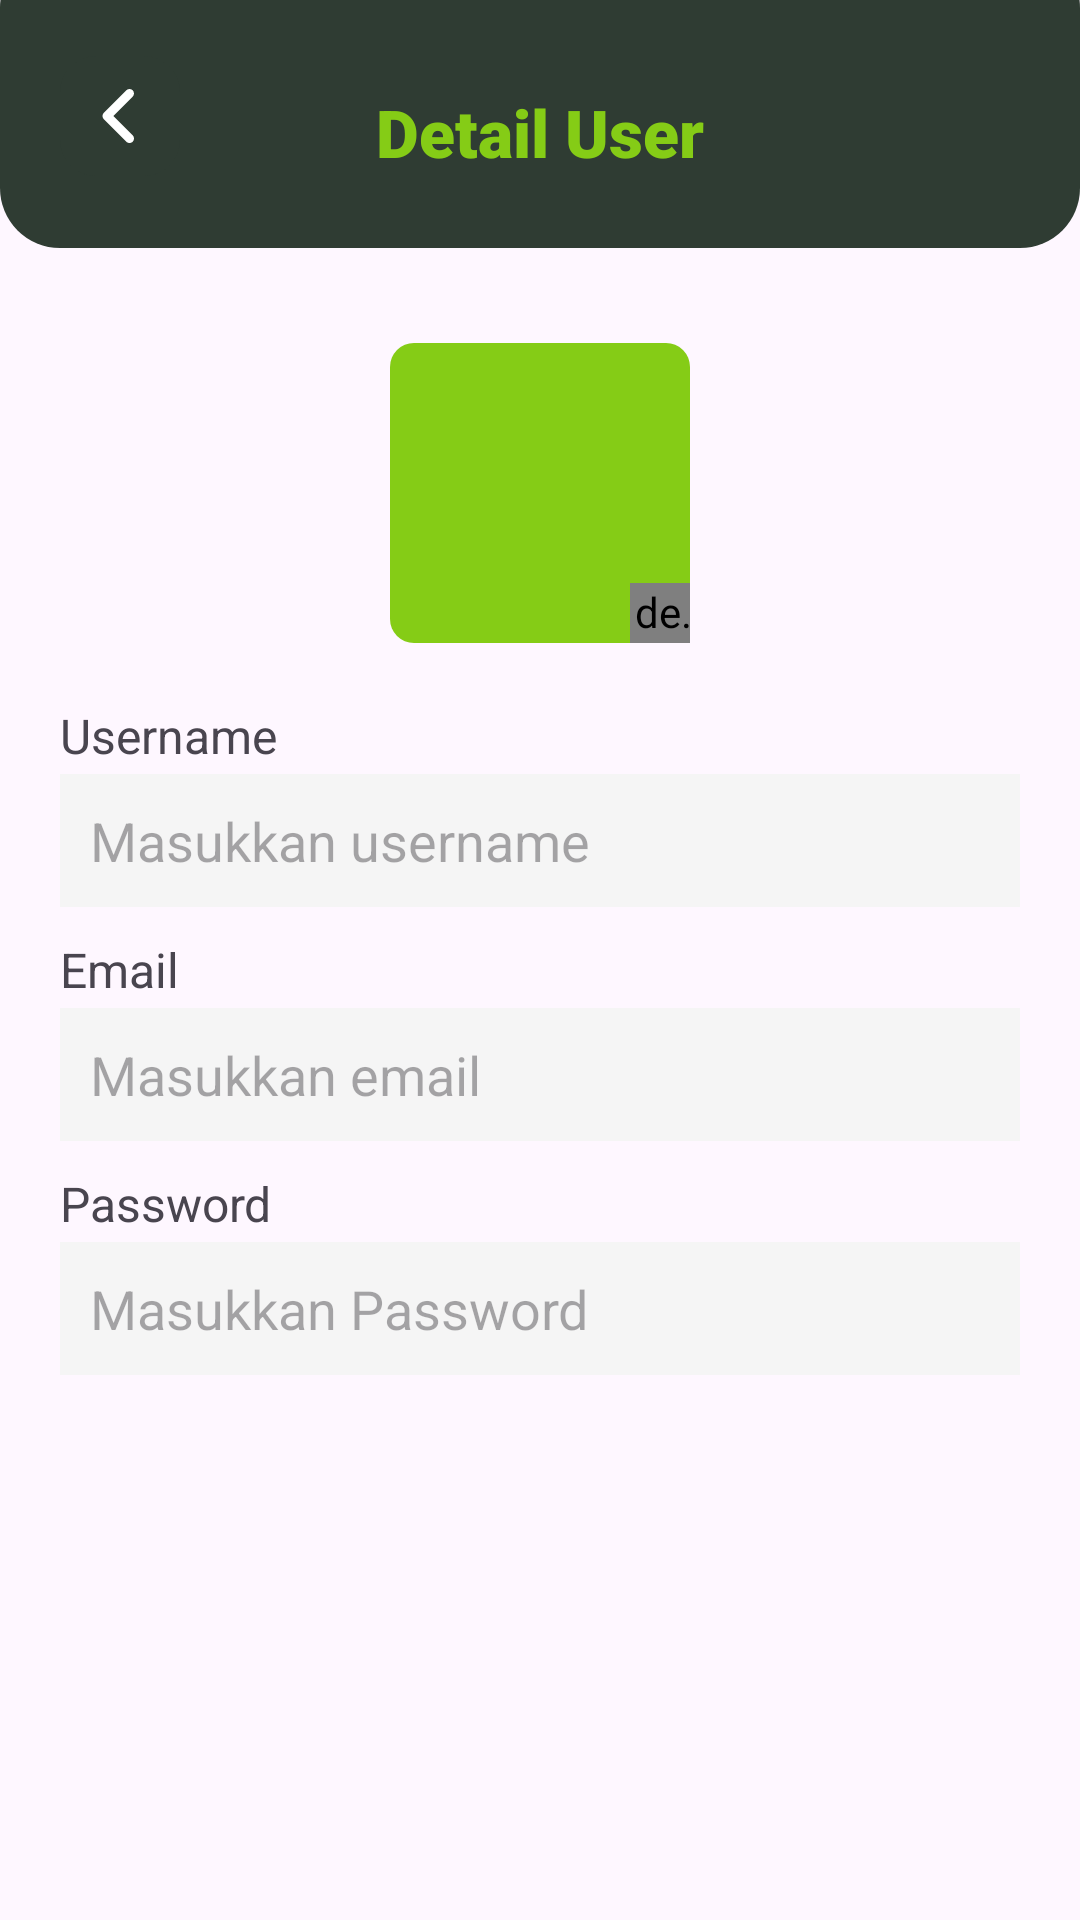

Point at icon controls on the screen. Image size 1080x1920, points as point (x, y).
left: point (118, 116)
